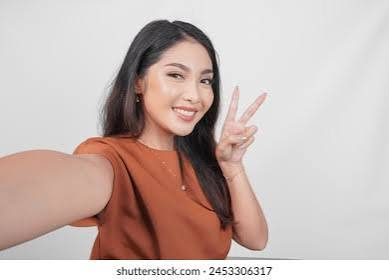peace_sign: (215, 80, 269, 166)
